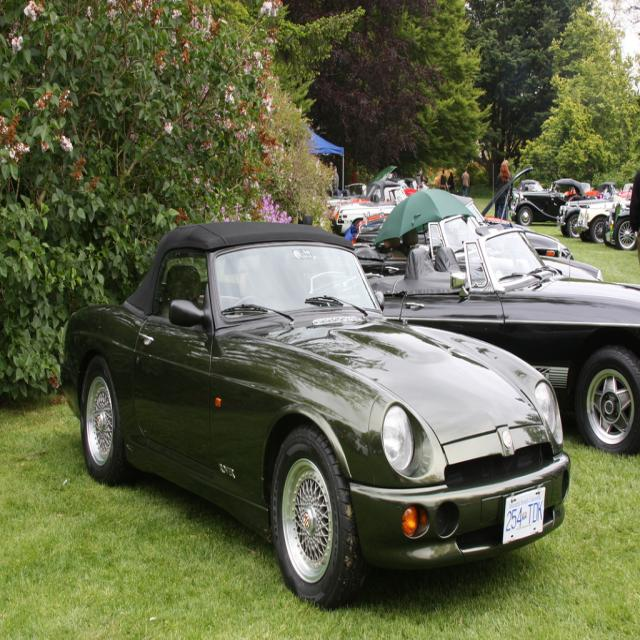car: (63, 224, 570, 616)
